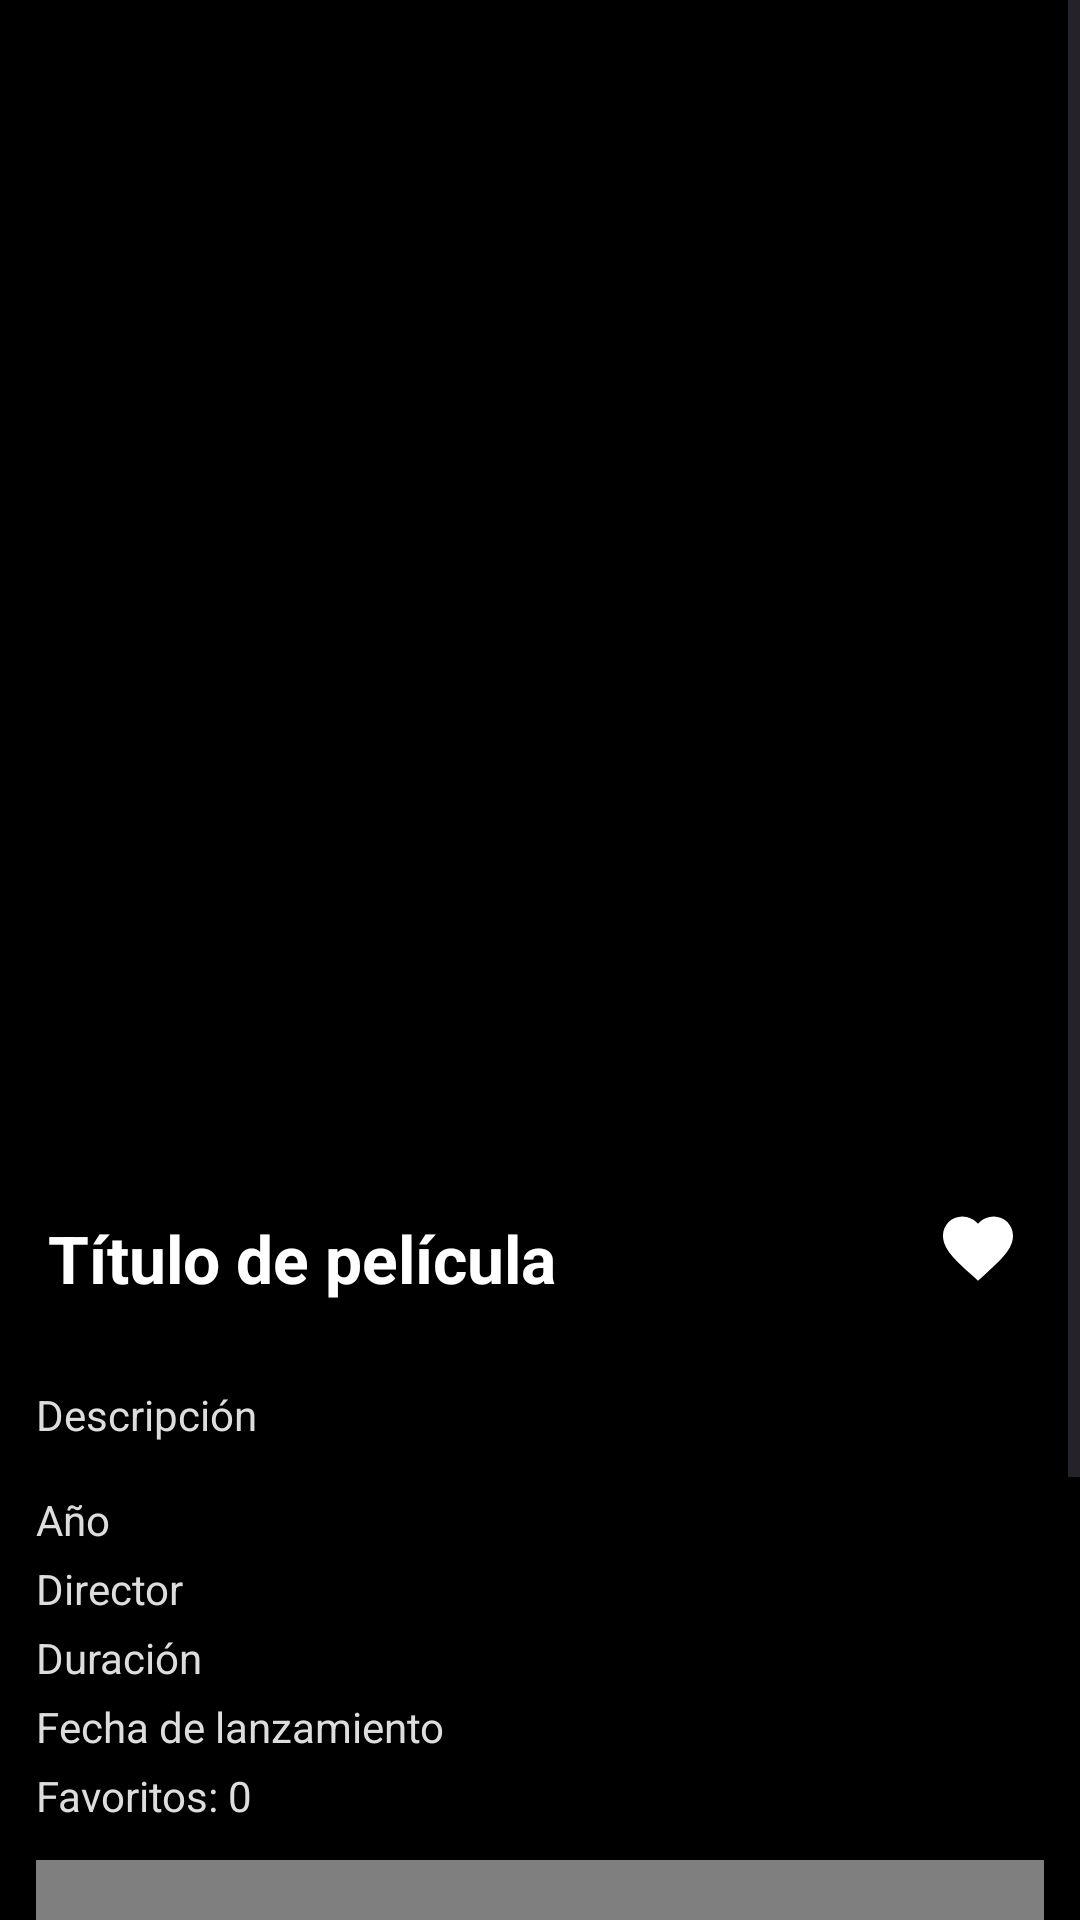

Icon bounding boxes for this 1080×1920 phone screenshot, format BBox(x1, y1, x2, y2):
Favorito: BBox(943, 1216, 1013, 1281)
